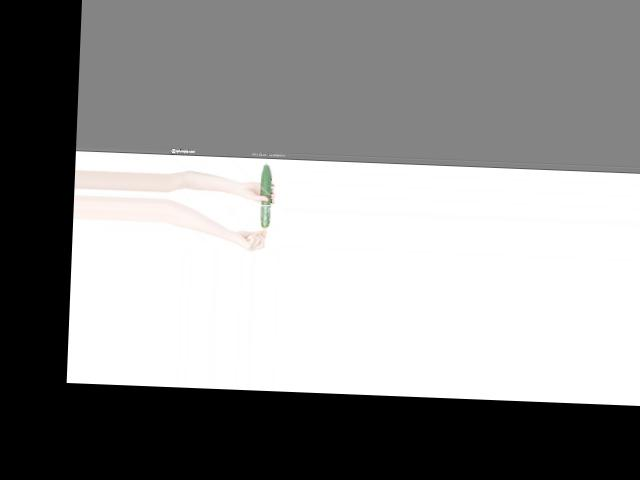cucumber: (260, 162, 273, 228)
